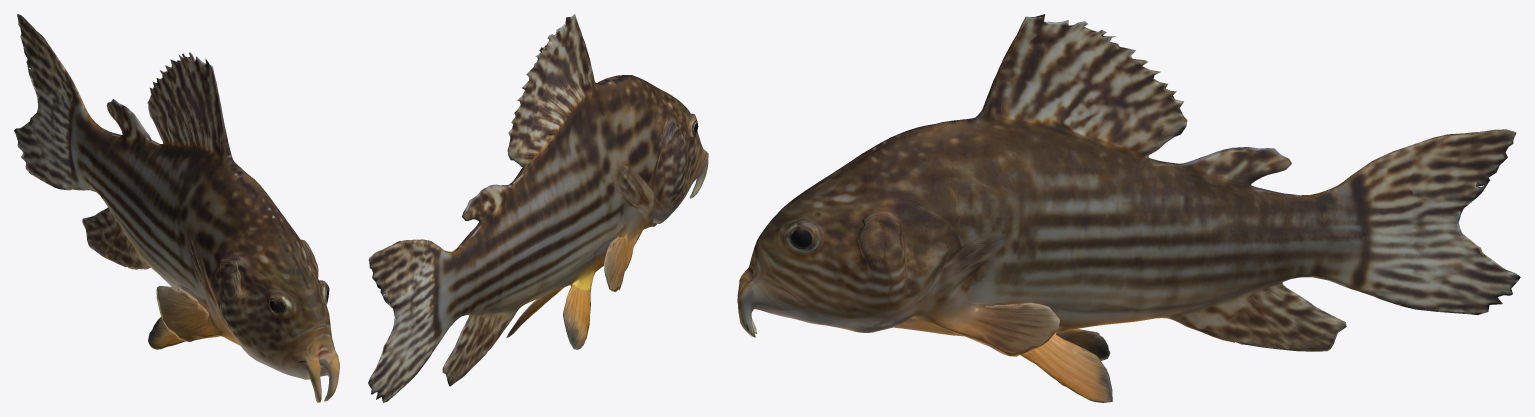
The model's file is corydoras_sterbai_0604063739_texture.glb.
3 renders of one model, left to right at view 1: azimuth 30°, elevation 25°; view 2: azimuth 150°, elevation 25°; view 3: azimuth 270°, elevation 25°, orthographic. The views are drawn at different scales.
Size of the model in its own units: 0.3307 by 1.03 by 1.97.
Materials: 1 (1 with a texture image).
